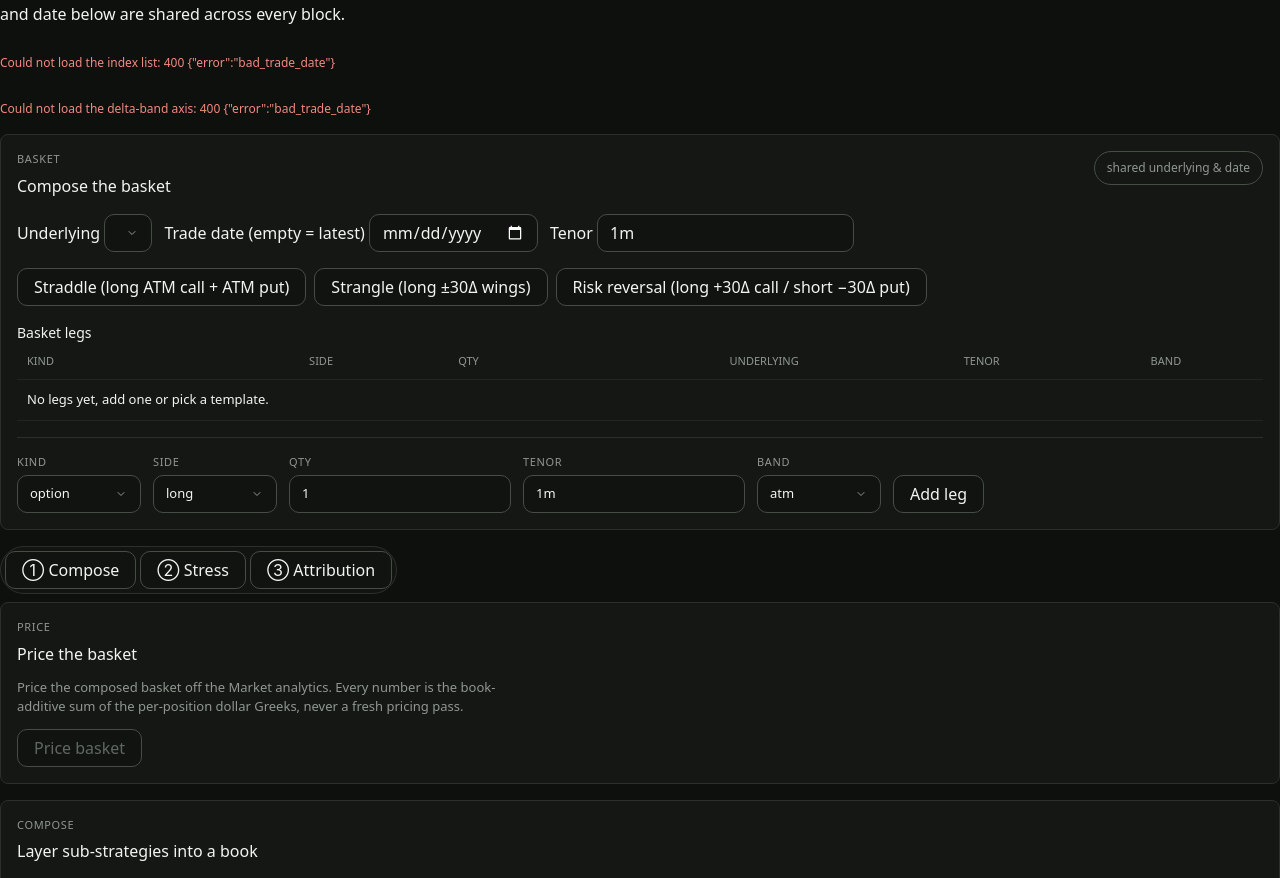
it: a fetch error renders a labelled alert on the page, not a blank page
The image size is (1280, 878).
Click the tab "③ Attribution": (321, 570) [250,551,392,589]
(page scrolled)
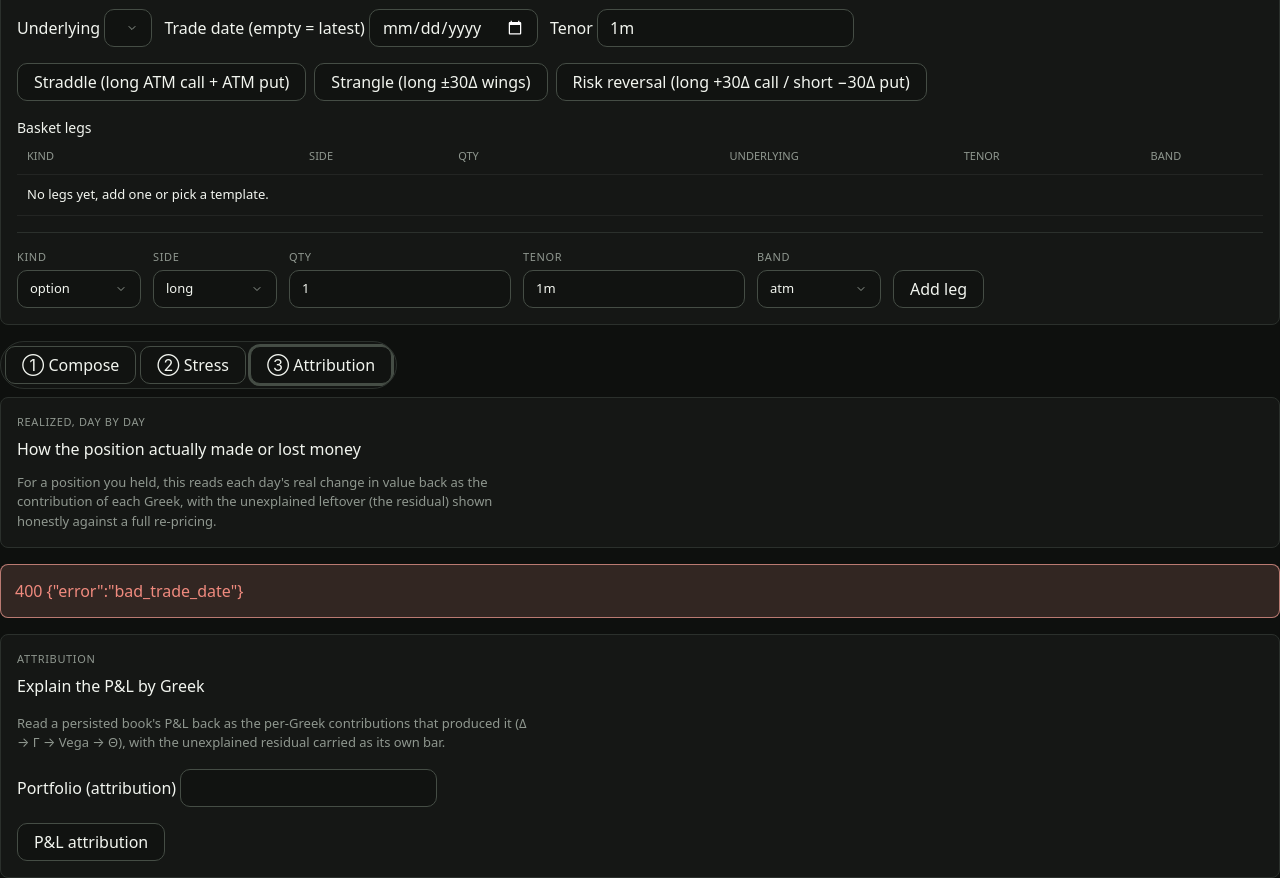
Click the button "P&L attribution": (91, 842) [17,822,165,860]
(page scrolled)
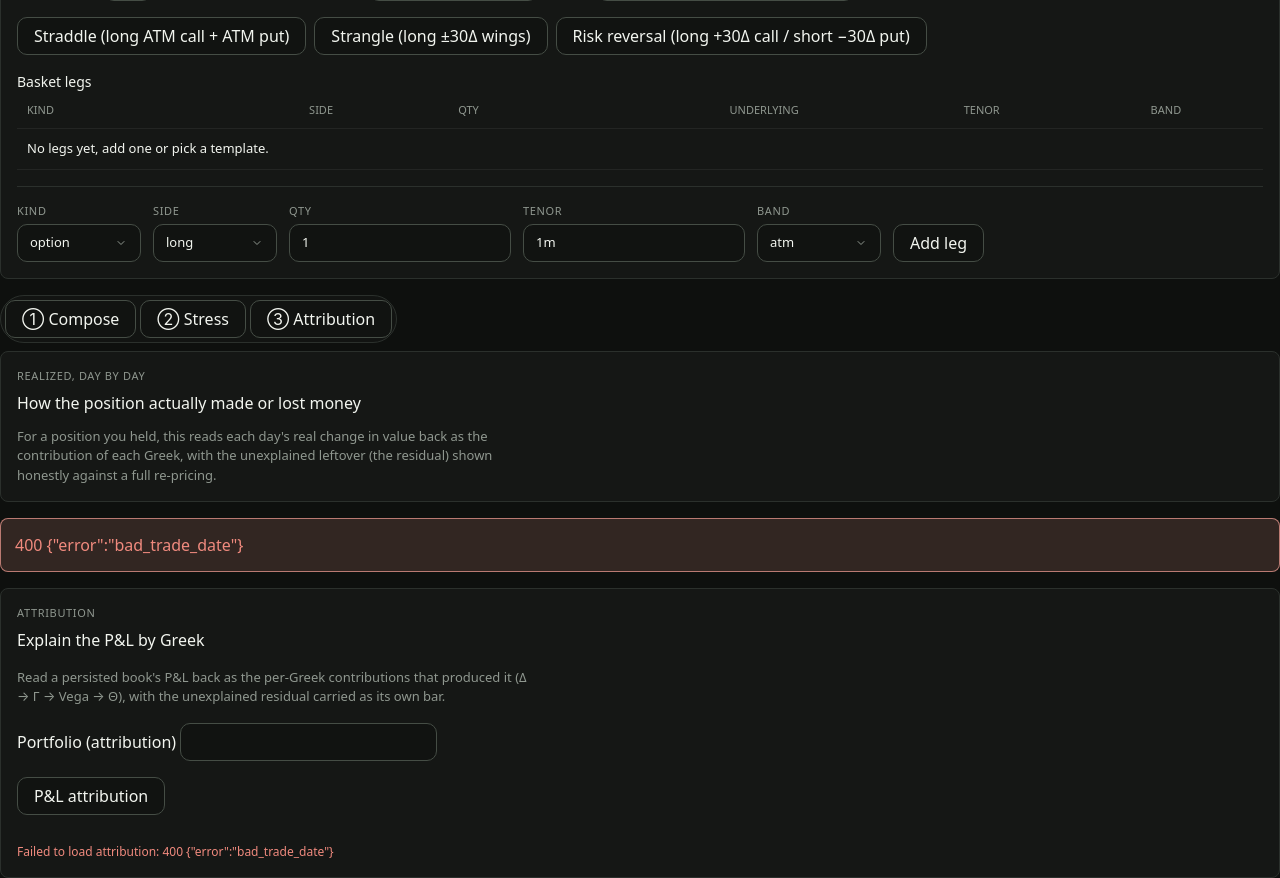
Expected: the text "Failed to load attribution: 400 {\"error\":\"bad_trade_date\"}" is shown, [17,842,334,860]
